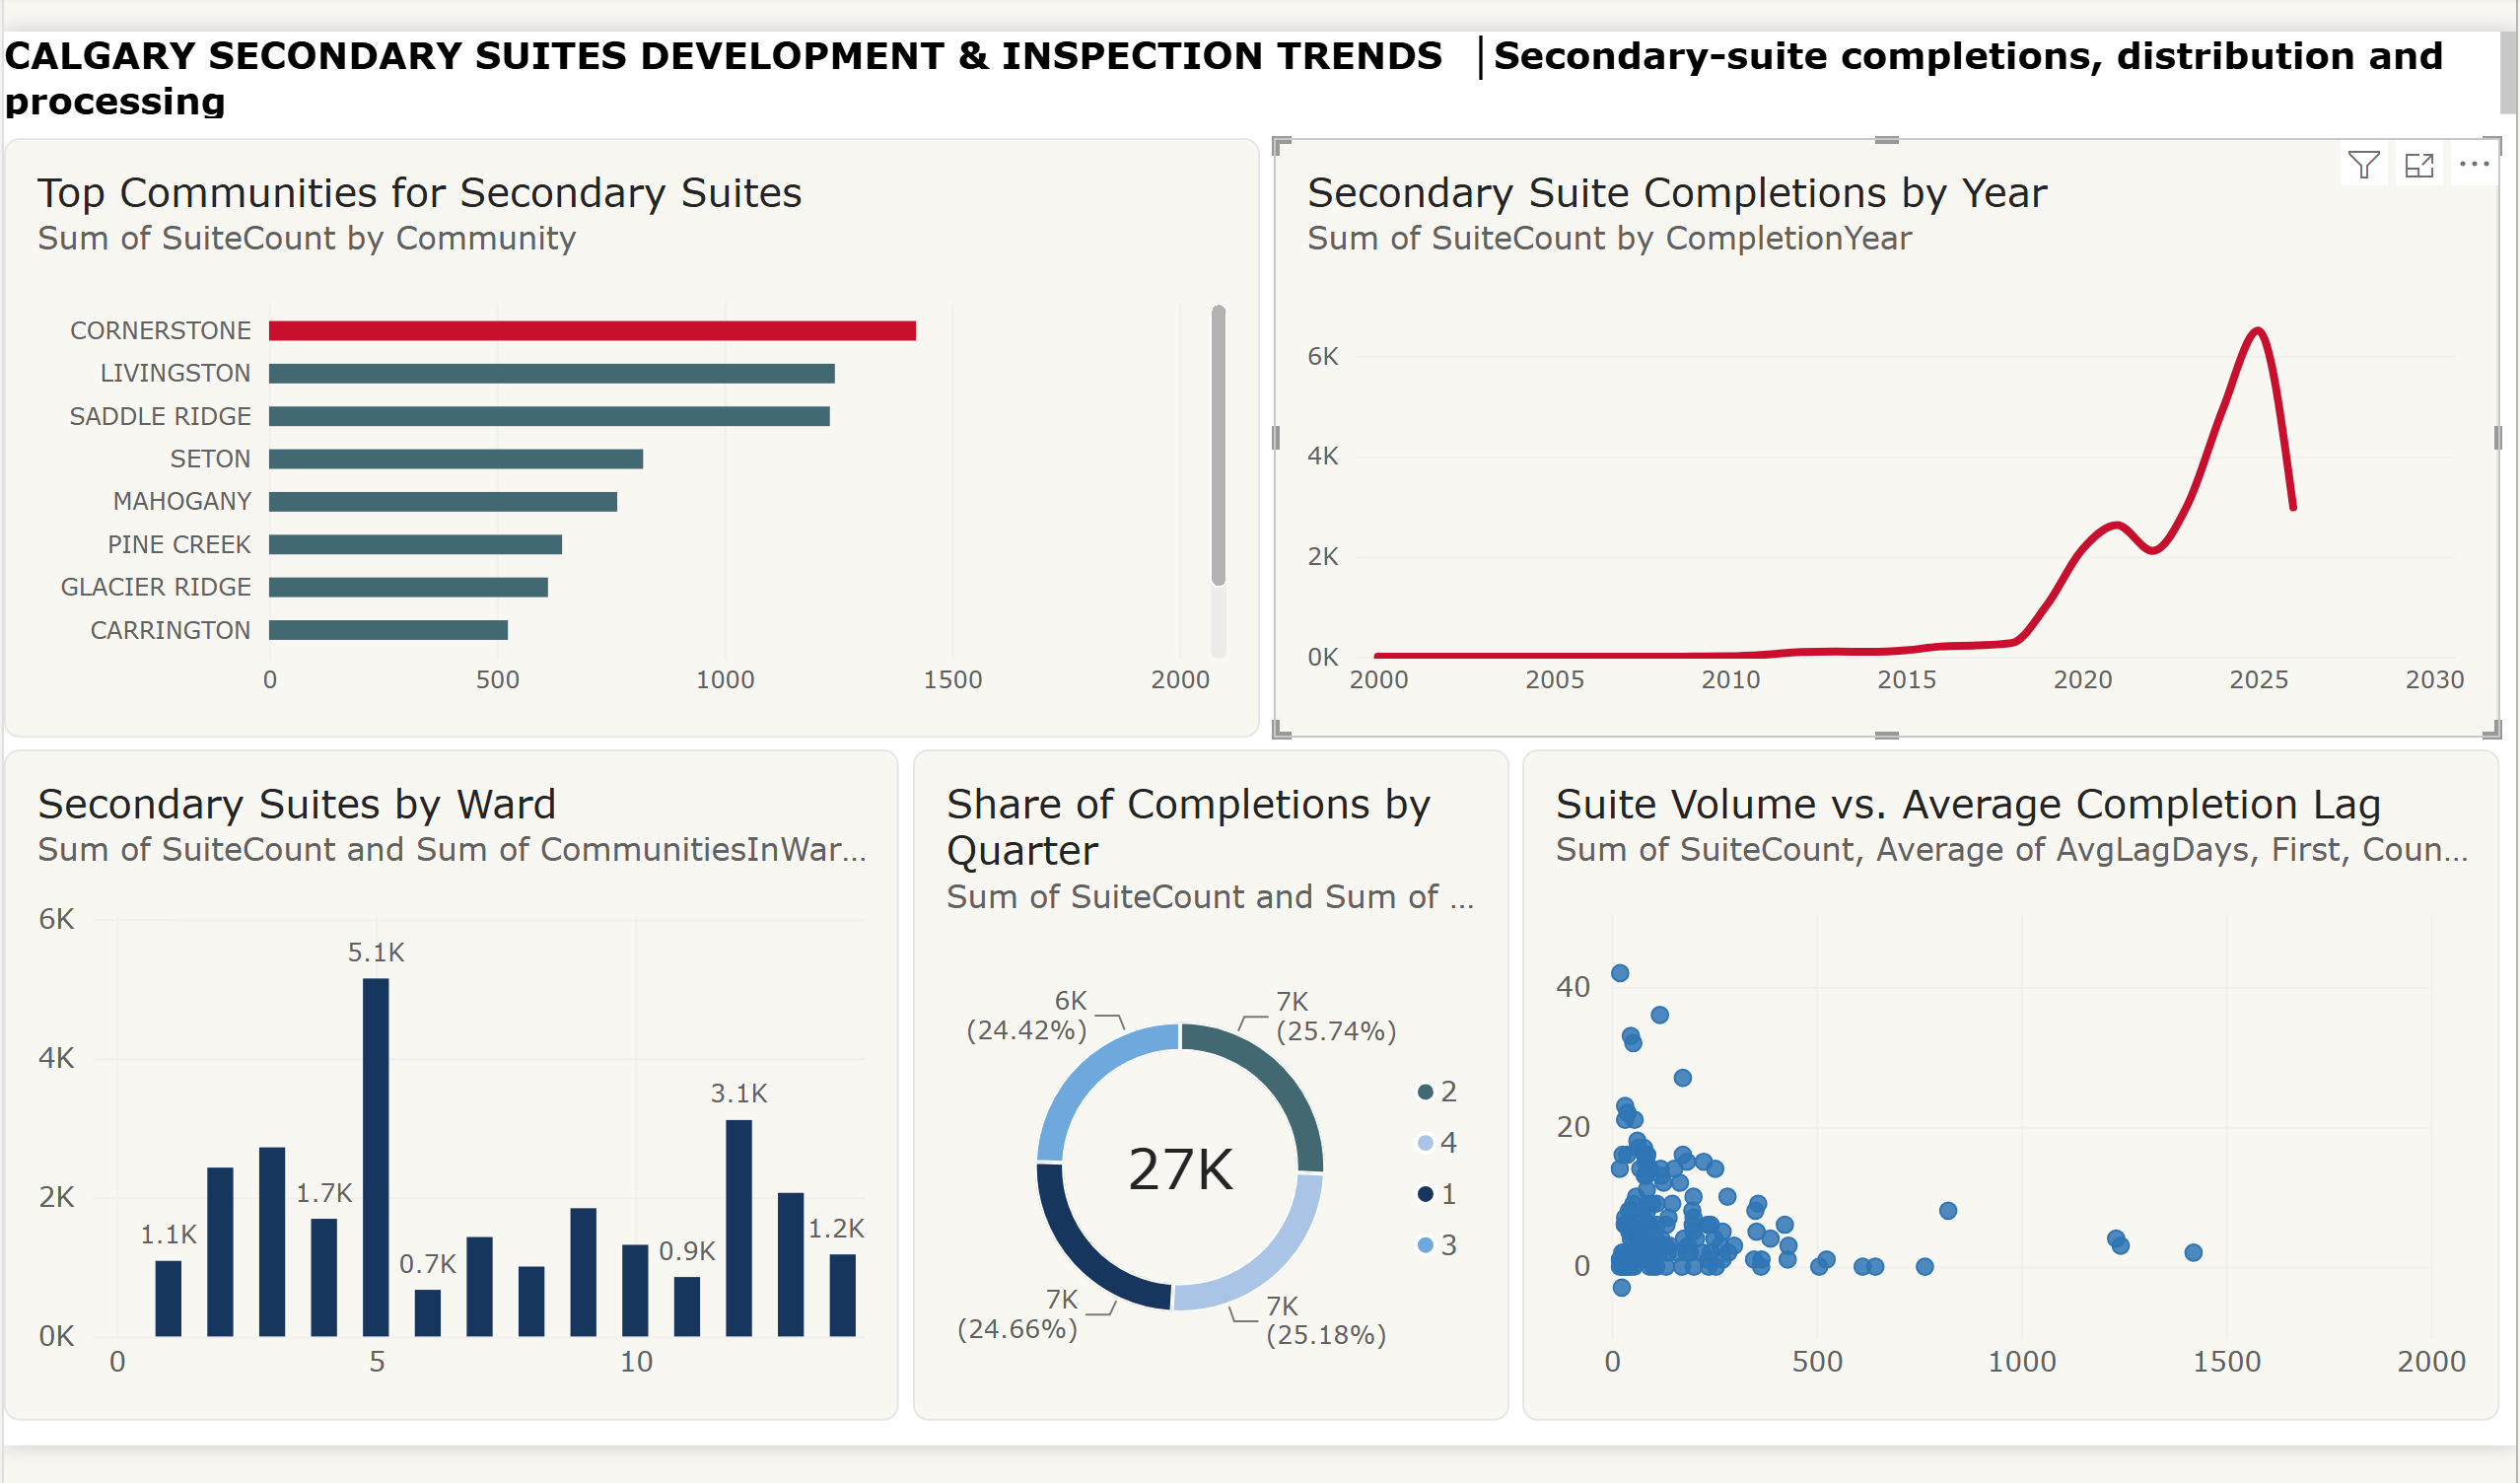

The page's visual inventory and layout, read from the dashboard file:
{"tool":"powerbi","page":{"name":"Page 1","canvas":[1280,720],"ordinal":0},"visuals":[{"type":"clusteredBarChart","title":"Top Communities for Secondary Suites","fields":{"Category":["Visual1_TopCommunities.Community"],"Y":["Sum(Visual1_TopCommunities.SuiteCount)"]},"box":[0,54.7,640,305.3],"z":0},{"type":"lineChart","title":"Secondary Suite Completions by Year","fields":{"Category":["Visual2_YearlyTrend.CompletionYear"],"Y":["Sum(Visual2_YearlyTrend.SuiteCount)"]},"box":[647.4,54.7,624.2,305.3],"z":1000},{"type":"clusteredColumnChart","title":"Secondary Suites by Ward","fields":{"Category":["Visual3_Wards.Ward"],"Y":["Sum(Visual3_Wards.SuiteCount)"]},"box":[0,365.3,455.8,342.1],"z":2000},{"type":"donutChart","title":"Share of Completions by Quarter","fields":{"Category":["Visual4_QuarterShare.CompletionQuarter"],"Y":["Sum(Visual4_QuarterShare.SuiteCount)"]},"box":[463.2,365.3,304.2,342.1],"z":3000},{"type":"scatterChart","title":"Suite Volume vs. Average Completion Lag","fields":{"Category":["Visual5_CommunityLag.Community"],"X":["Visual5_CommunityLag.SuiteCount"],"Y":["Visual5_CommunityLag.AvgLagDays"]},"box":[773.7,365.3,497.9,342.1],"z":4000},{"type":"textbox","box":[0,0,1280,44.2],"z":5000}]}

Visuals, with their boxes on the page's 1280x720 design canvas (x1, y1, x2, y2). These are canvas units, not pixel positions in the 2520x1483 screenshot, which may show the page scaled, cropped or inside an application window:
"Top Communities for Secondary Suites" clusteredBarChart: region(0, 55, 640, 360)
"Secondary Suite Completions by Year" lineChart: region(647, 55, 1272, 360)
"Secondary Suites by Ward" clusteredColumnChart: region(0, 365, 456, 707)
"Share of Completions by Quarter" donutChart: region(463, 365, 767, 707)
"Suite Volume vs. Average Completion Lag" scatterChart: region(774, 365, 1272, 707)
textbox: region(0, 0, 1280, 44)
